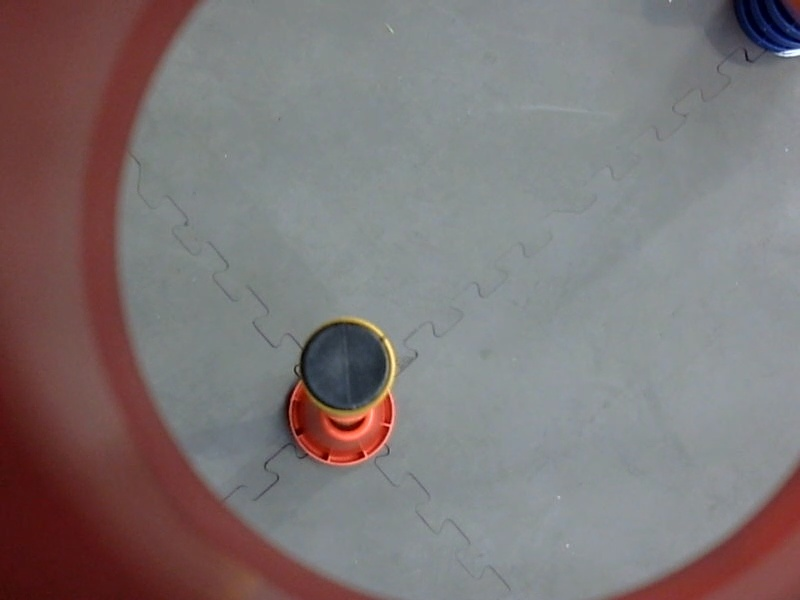tip: (293, 311, 403, 422)
